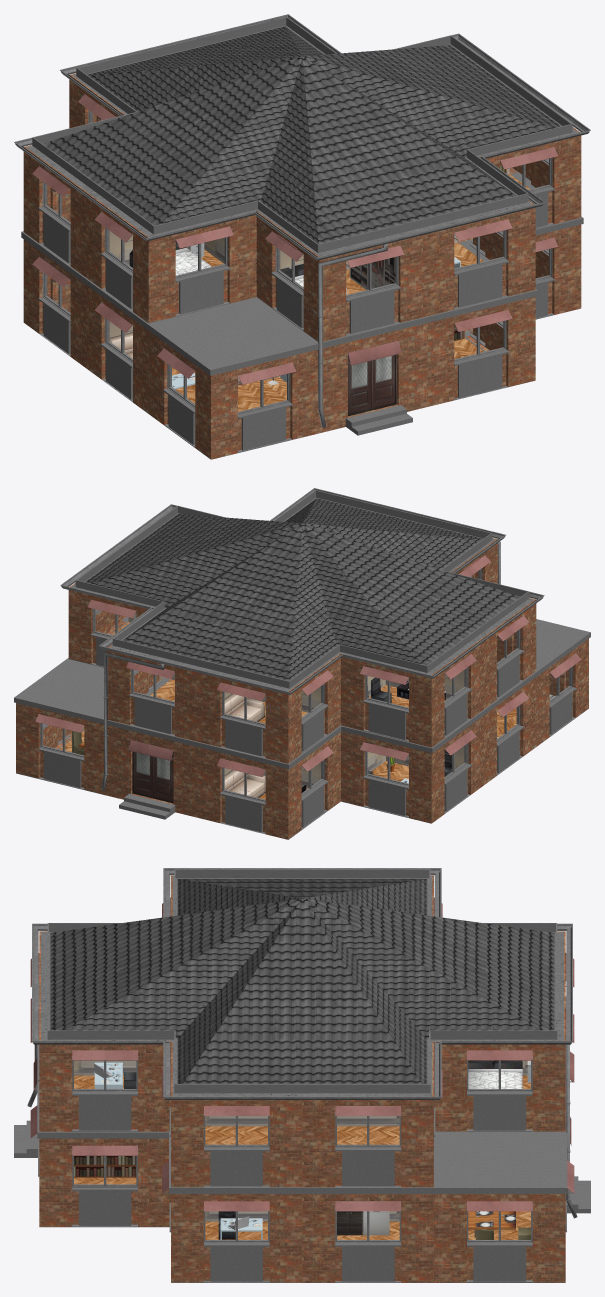
The model's file is Building_2stores_HouseBrick.obj.
3 renders of one model, top to bottom at view 1: azimuth 30°, elevation 25°; view 2: azimuth 150°, elevation 25°; view 3: azimuth 270°, elevation 25°, orthographic. The views are drawn at different scales.
Visible parts, largest first — view 1: Building_2stores_HouseBrick; view 2: Building_2stores_HouseBrick; view 3: Building_2stores_HouseBrick.
Boxes of the visible parts, left/top/right/bottom form: Building_2stores_HouseBrick: left=14, top=14, right=590, bottom=459; Building_2stores_HouseBrick: left=14, top=488, right=590, bottom=839; Building_2stores_HouseBrick: left=14, top=868, right=590, bottom=1282.
Size of the model in its own units: 5.43 by 3 by 5.76.
10 materials, 10 textured.
